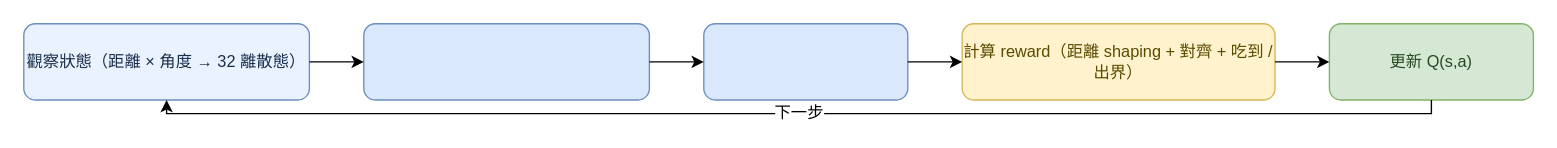
This 1557x148 diagram has some shape labels left out. Each missing label, with the box of its shape:
ε-greedy 選動作（直走 / 左轉 / 右轉）: (362, 22, 649, 100)
執行:移動 / 轉向: (702, 22, 908, 100)
